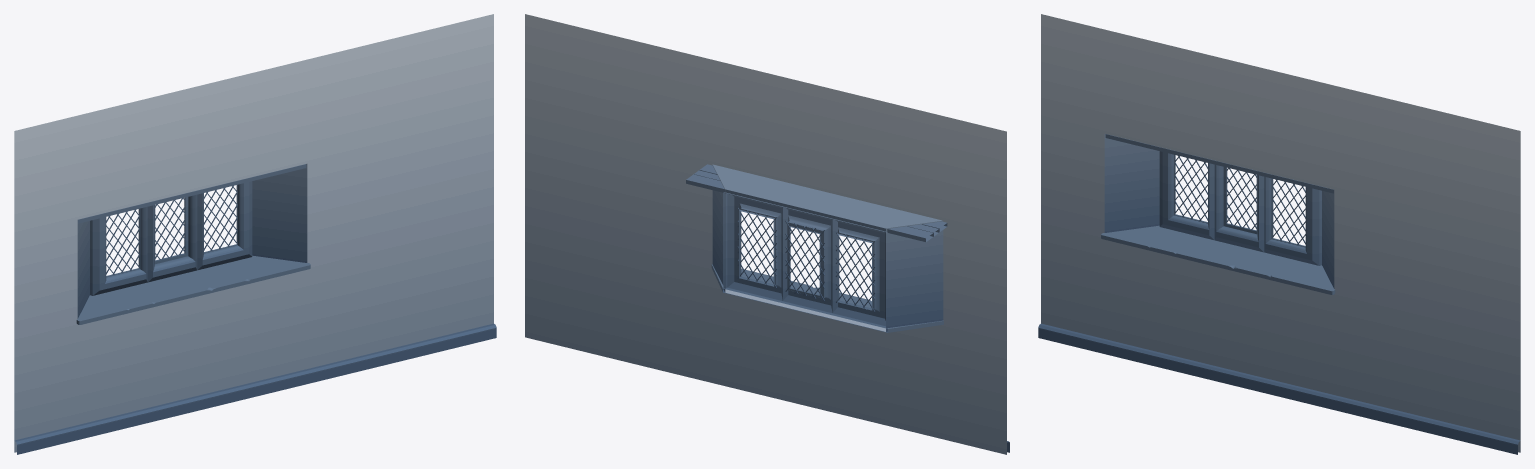
The model's file is WallWindow.fbx.
3 views of the same model, side by side, from view 1: azimuth 30°, elevation 25°; view 2: azimuth 150°, elevation 25°; view 3: azimuth 330°, elevation 25° (orthographic).
Parts seen in each view (by area): view 1: WallWindow_GEO_Adjusted; view 2: WallWindow_GEO_Adjusted; view 3: WallWindow_GEO_Adjusted.
Boxes of the visible parts, x1,y1,x2,y2 form: WallWindow_GEO_Adjusted: (14,14,496,454); WallWindow_GEO_Adjusted: (525,14,1009,454); WallWindow_GEO_Adjusted: (1038,14,1520,454).
Bounding box in the file's own units: 390 × 250 × 36.67.
